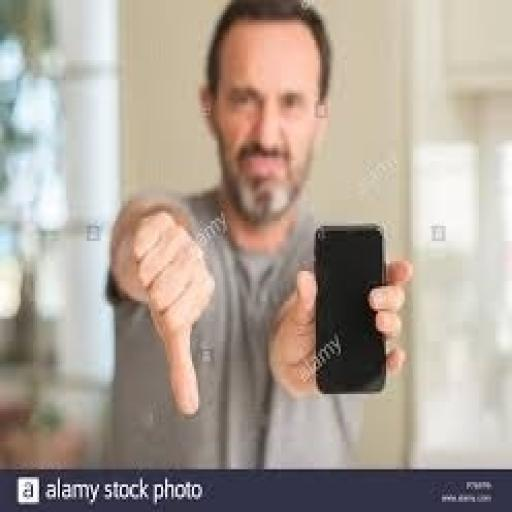texting: (101, 0, 413, 467)
